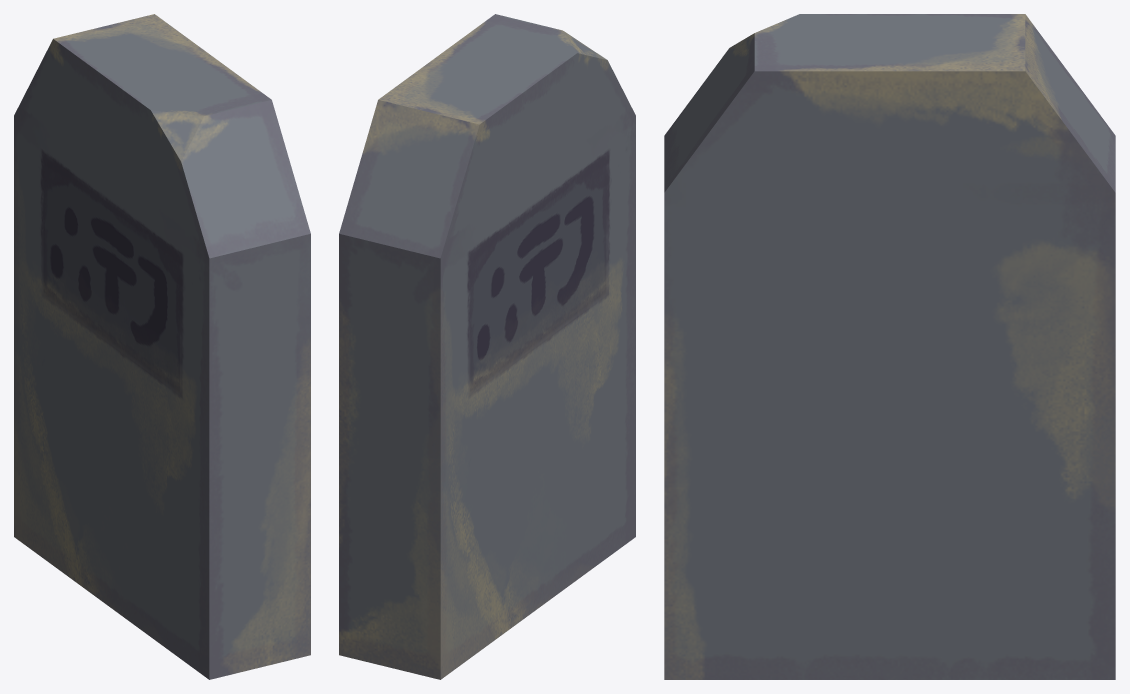
File: LevelUp_Grave2.fbx
3 renders of one model, left to right at view 1: azimuth 30°, elevation 25°; view 2: azimuth 150°, elevation 25°; view 3: azimuth 270°, elevation 25°, orthographic. The views are drawn at different scales.
Parts seen in each view (by area): view 1: GRAVEs.001; view 2: GRAVEs.001; view 3: GRAVEs.001.
Boxes of the visible parts, box(x1,y1,x2,y2) form: GRAVEs.001: box(14, 14, 310, 679); GRAVEs.001: box(339, 14, 635, 679); GRAVEs.001: box(664, 14, 1115, 679).
Size of the model in its own units: 60 by 298 by 200.
